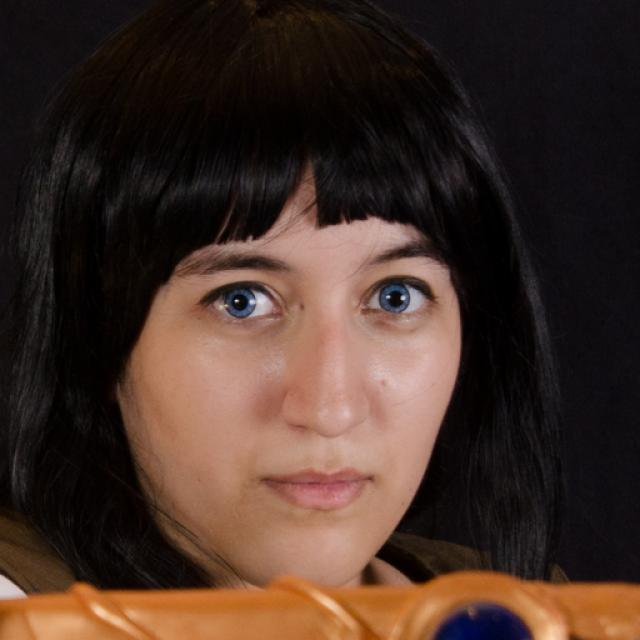Acne: (372, 375, 395, 394)
